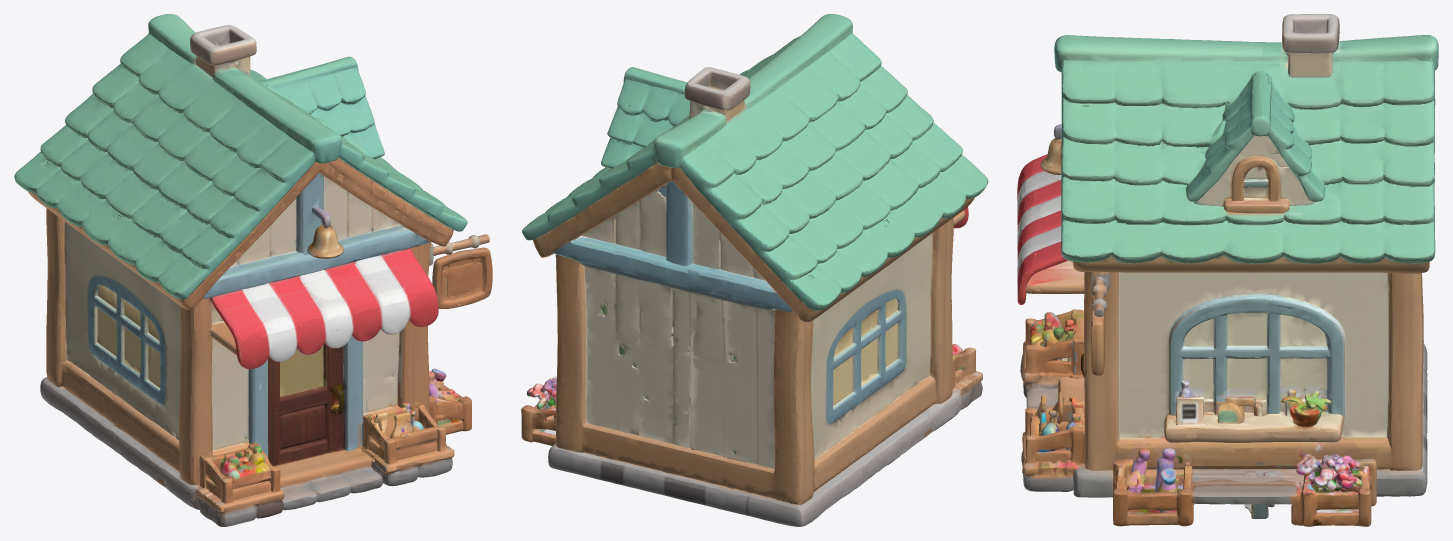
Rendered from bld_shop_01.glb.
3 renders of one model, left to right at view 1: azimuth 30°, elevation 25°; view 2: azimuth 150°, elevation 25°; view 3: azimuth 270°, elevation 25°, orthographic. The views are drawn at different scales.
Parts seen in each view (by area): view 1: geometry_0; view 2: geometry_0; view 3: geometry_0.
Boxes of the visible parts, x1,y1,x2,y2 form: geometry_0: (14,14,492,526); geometry_0: (521,14,988,526); geometry_0: (1017,14,1438,526).
Size of the model in its own units: 0.2629 by 0.28 by 0.258.
Materials: 1 (1 with a texture image).
